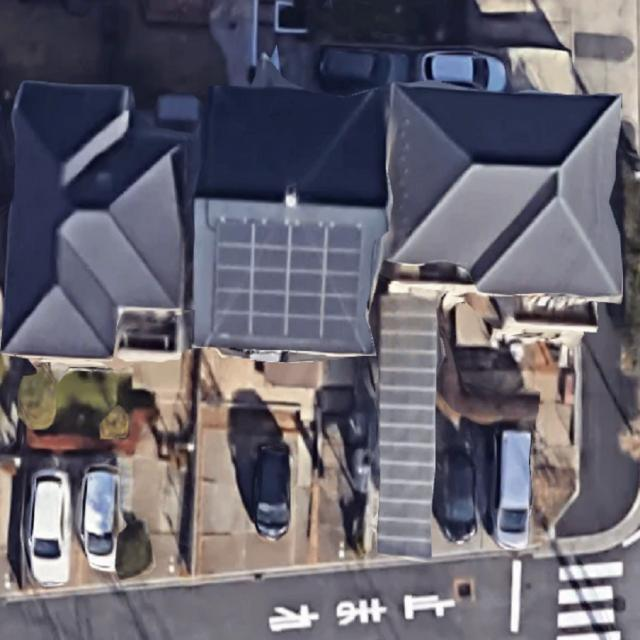Batiment: (2, 81, 200, 358), (385, 85, 622, 301), (195, 89, 388, 354), (378, 290, 440, 559)
